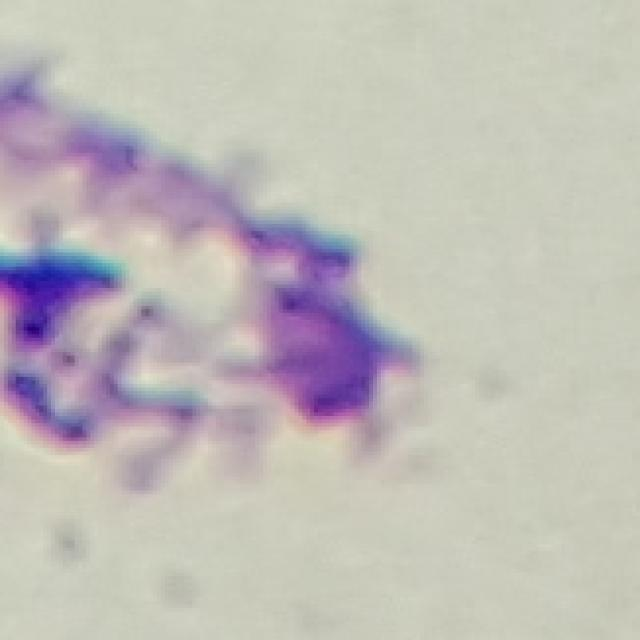non-sperm: (0, 115, 400, 452)
